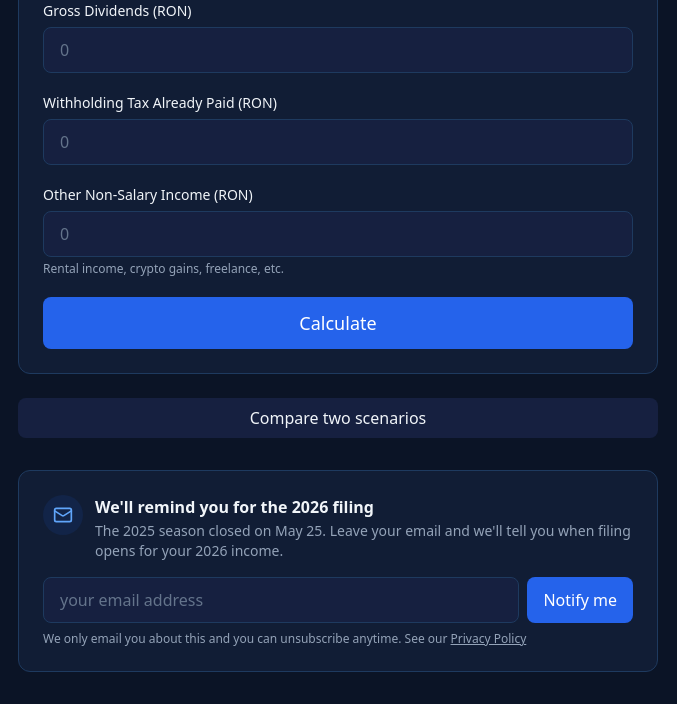
it: WhatIfSimulator › renders both totals and a correct difference after Compare
The width and height of the screenshot is (677, 704).
(page scrolled)
Click the button "Compare two scenarios" at (338,418), box 18,398 -> 658,438
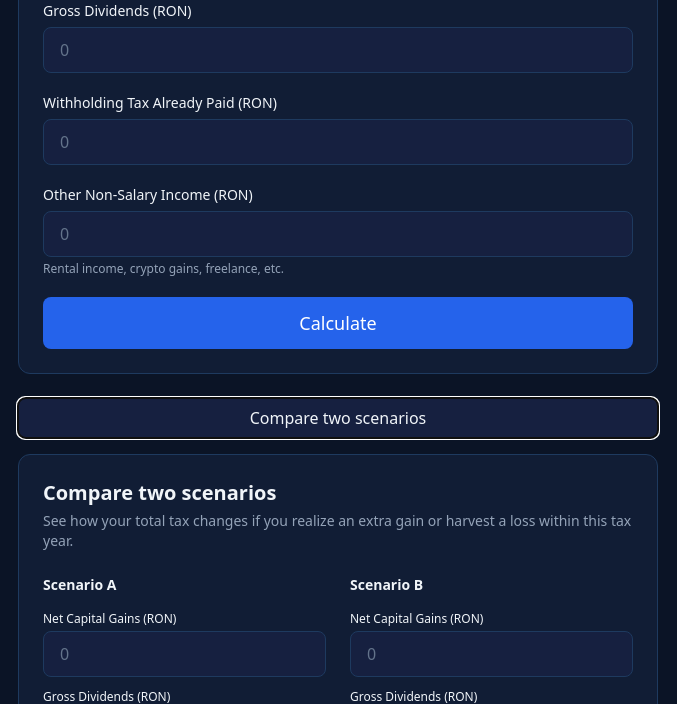
Type "30000" into the field with placeholder "0" below "Scenario A" at (184,654), box 43,631 -> 326,677
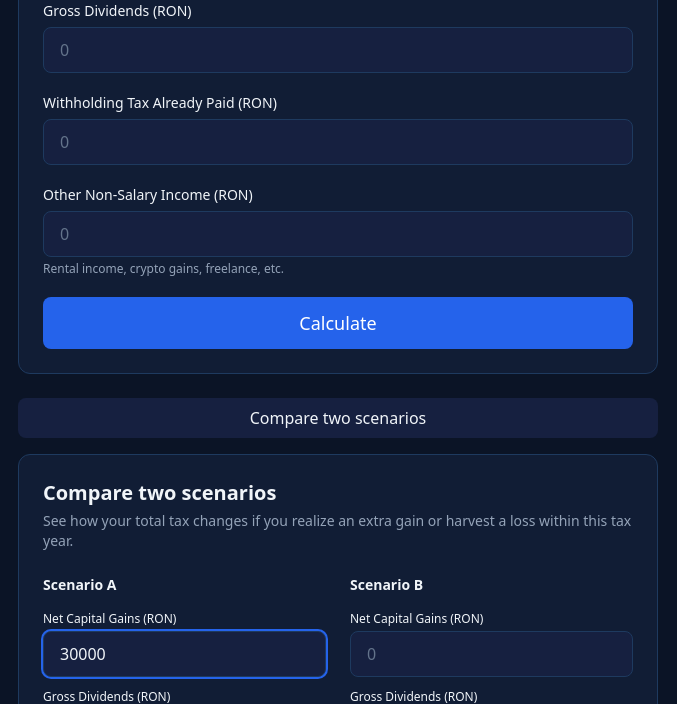
Type "45000" into the field with placeholder "0" below "Scenario B" at (492,654), box 350,631 -> 633,677
(page scrolled)
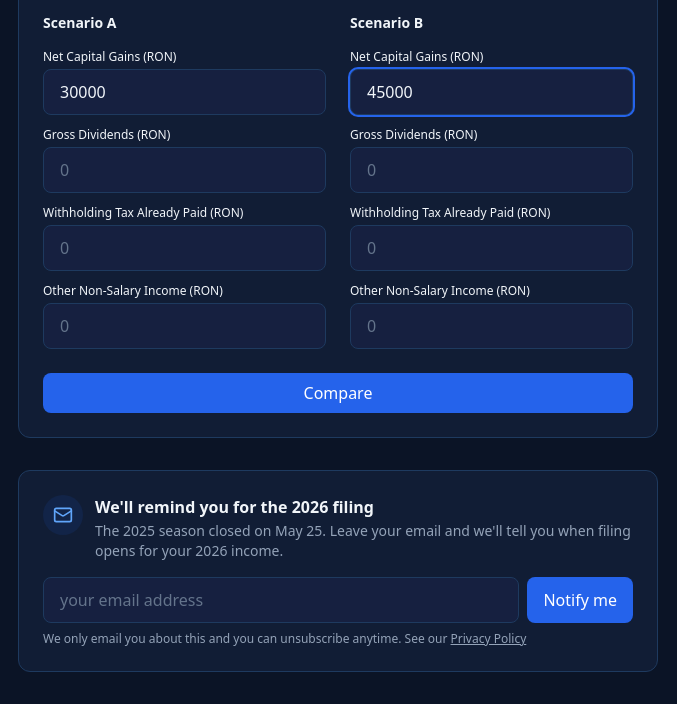
Click the button "Compare" at (338,393), box 43,373 -> 633,413
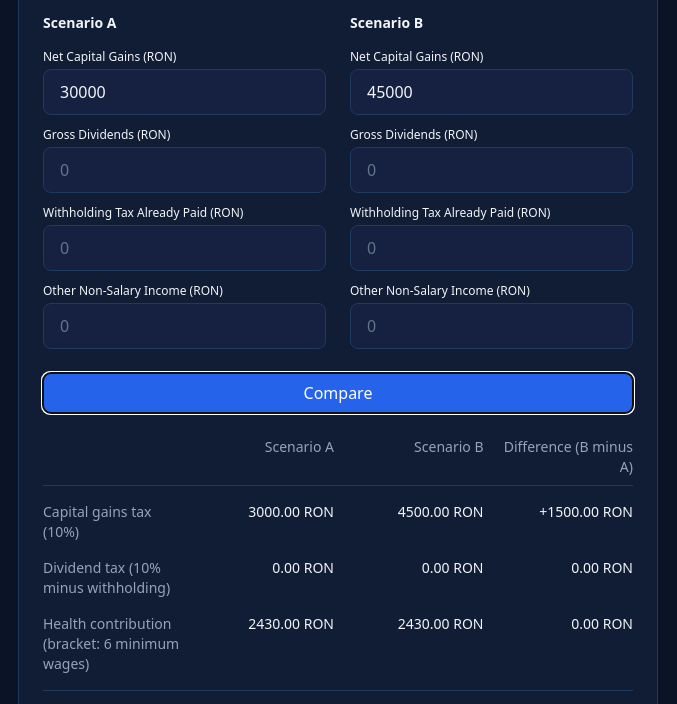
Expected: the text "+1500.00 RON" in the row of "4500.00" is shown, 539,502 -> 633,521
